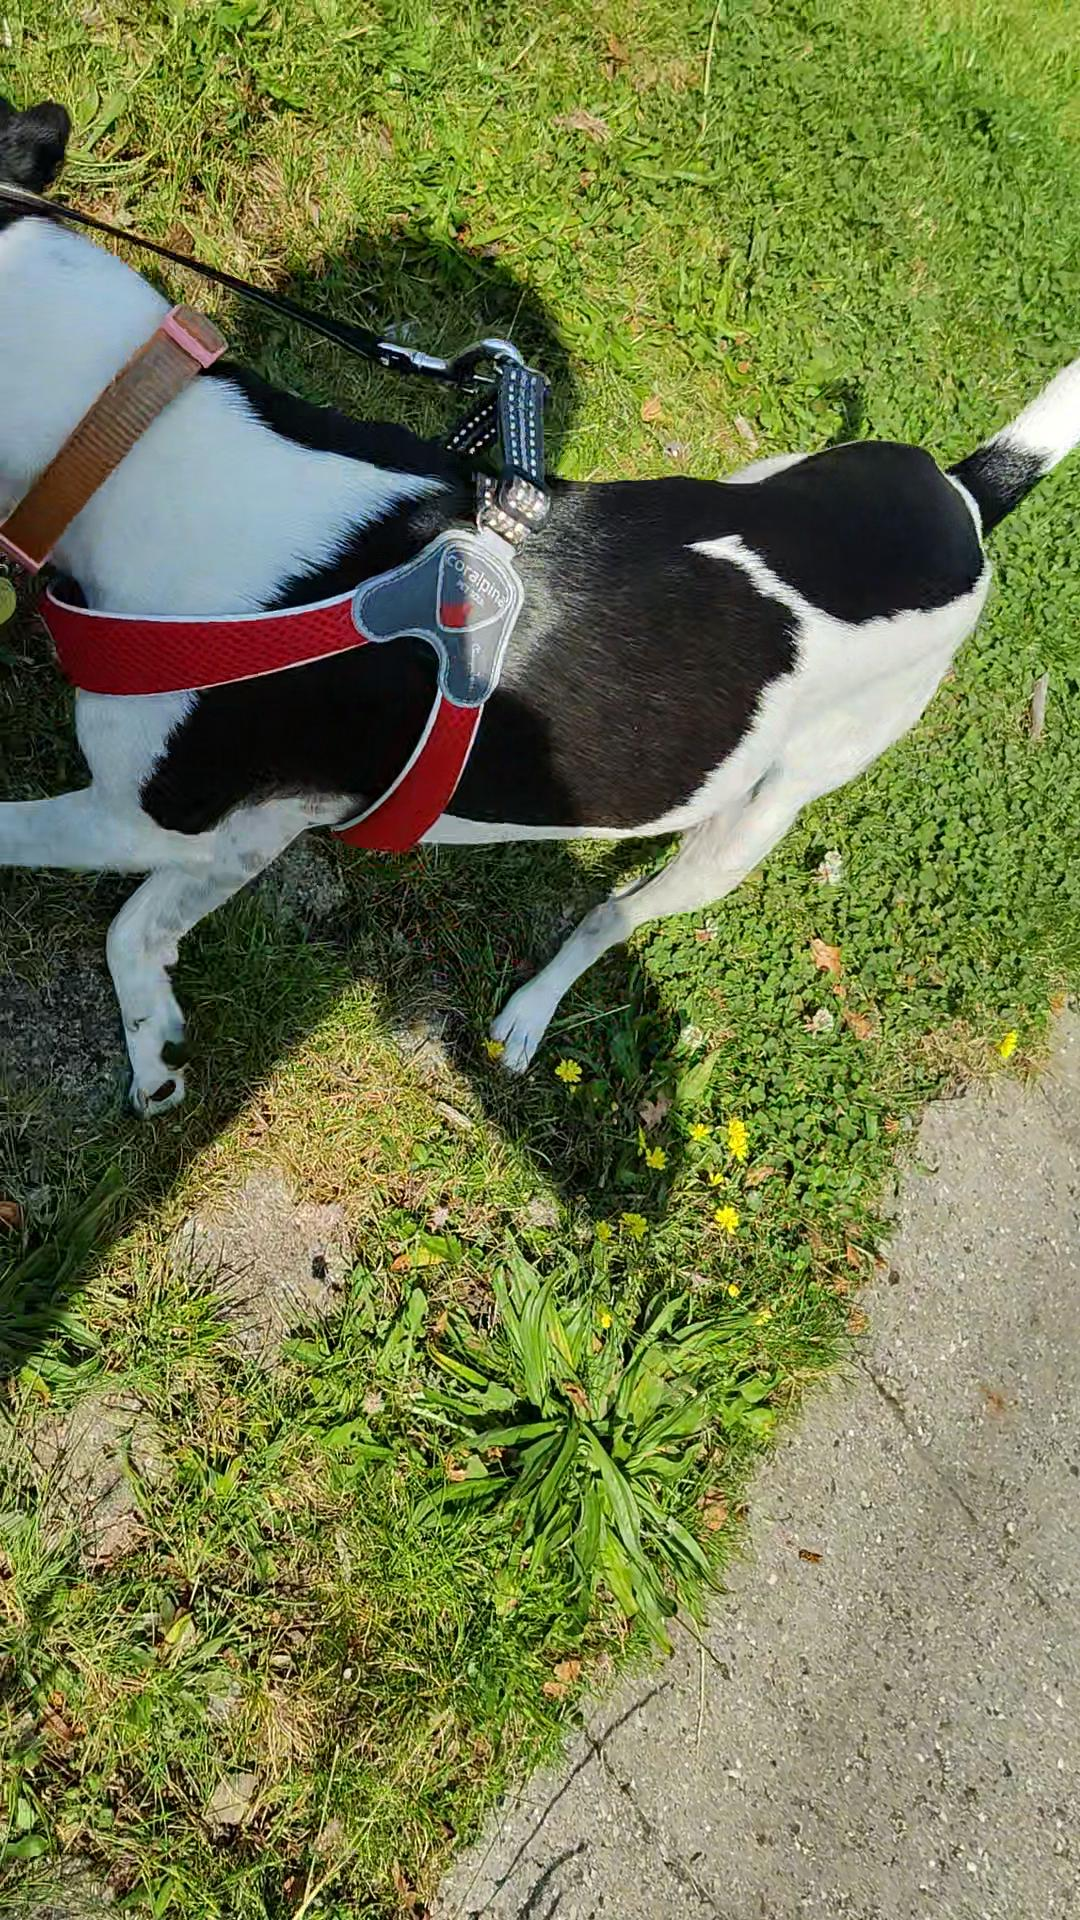Dog: (0, 87, 1079, 1127)
